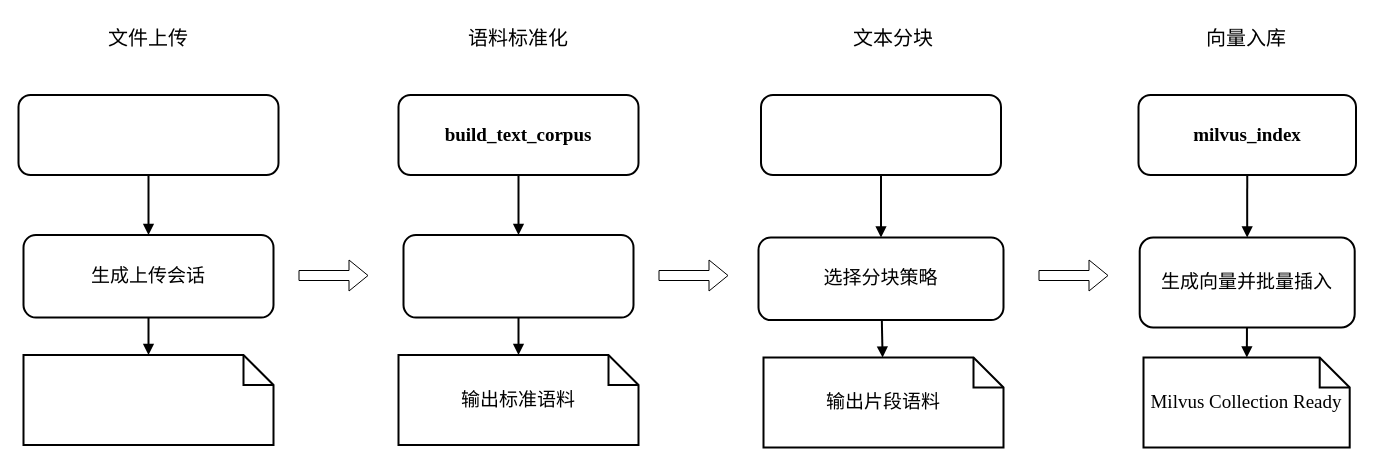
Image size: 1374x465. Some labels were removed from this diagram. Each missing label, with the centre of its shape:
"chunk_documents" belongs at point 881,135.
"上传原始文件 PDF / DOCX / DOC / TXT / MD" belongs at point 148,135.
"保存原始文件" belongs at point 148,400.
"按文件类型解析" belongs at point 518,276.
